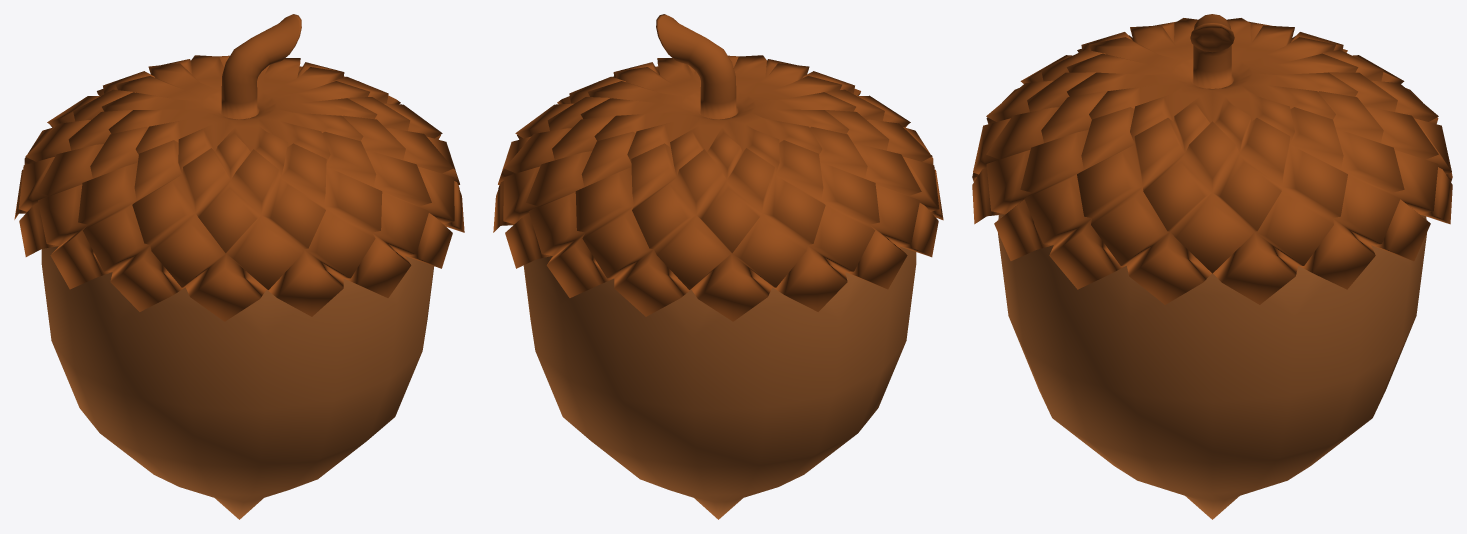
Rendered from Acorn2.fbx.
3 views of the same model, side by side, from view 1: azimuth 30°, elevation 25°; view 2: azimuth 150°, elevation 25°; view 3: azimuth 270°, elevation 25° (orthographic). The views are drawn at different scales.
Parts seen in each view (by area): view 1: Sphere; view 2: Sphere; view 3: Sphere.
Boxes of the visible parts, x1,y1,x2,y2 form: Sphere: [14, 14, 464, 519]; Sphere: [493, 14, 943, 519]; Sphere: [972, 14, 1452, 519].
Size of the model in its own units: 108 by 131 by 108.
